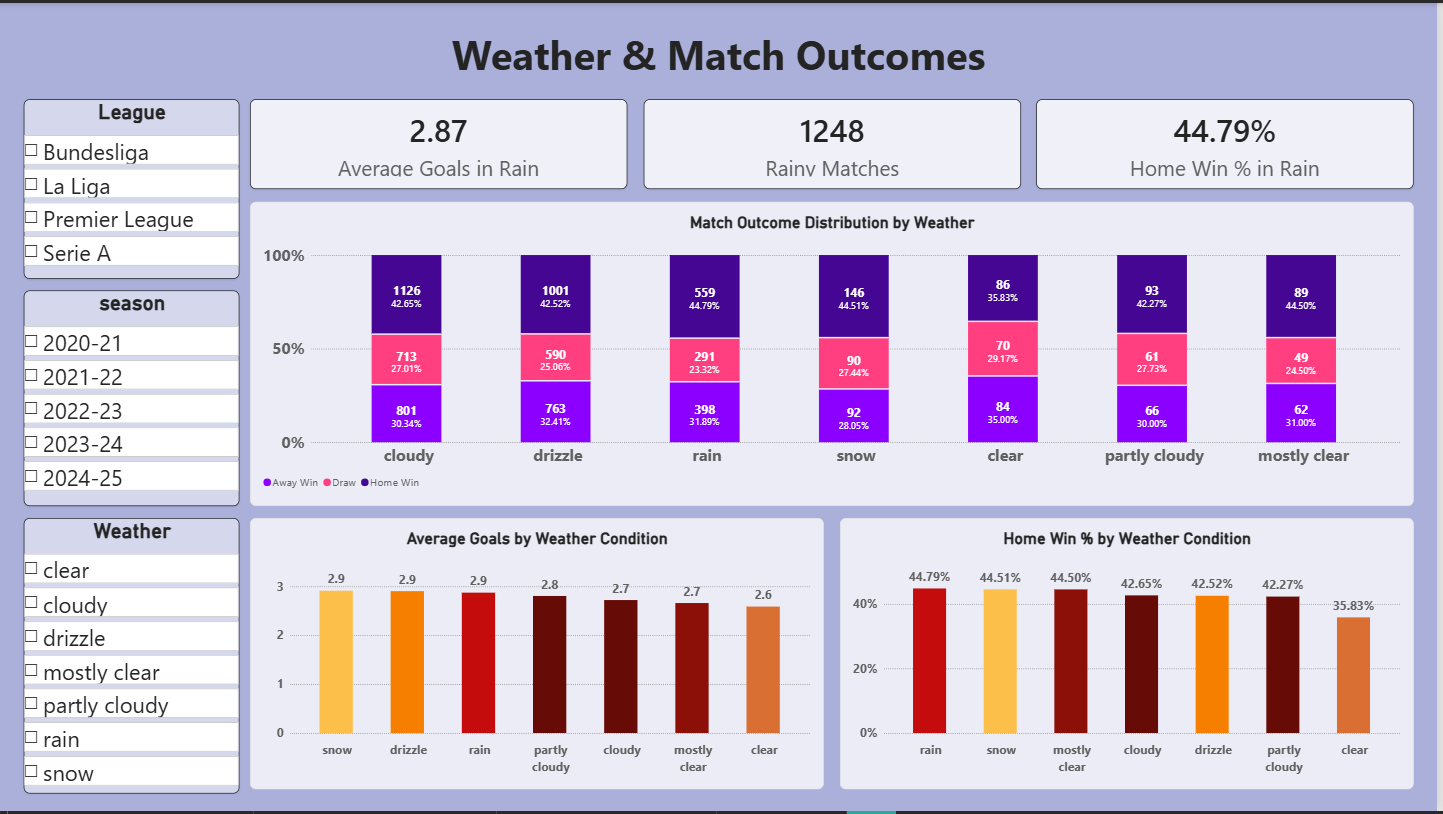

Layout of this report page (visuals, bound fields, positions):
{"tool":"powerbi","page":{"name":"Weather & Match Outcomes","canvas":[1920,1080],"ordinal":1},"visuals":[{"type":"card","fields":{"Values":["Table.Rainy Matches"]},"box":[860,128,504,120],"z":0},{"type":"card","fields":{"Values":["Table.Average Goals in Rain"]},"box":[334,128,504,120],"z":1000},{"type":"card","fields":{"Values":["Table.Home Win % in Rain"]},"box":[1384,128,504,120],"z":2000},{"type":"listSlicer","title":"season","fields":{"Values":["football_weather.season"]},"box":[32,384,288,288],"z":7000},{"type":"listSlicer","title":"Weather","fields":{"Values":["football_weather.weather_label"]},"box":[32,688,288,368],"z":8000},{"type":"listSlicer","title":"League","fields":{"Values":["football_weather.League Name"]},"box":[32,128,288,240],"z":9000},{"type":"textbox","box":[32,32,1856,80],"z":10000},{"type":"hundredPercentStackedColumnChart","title":"Match Outcome Distribution by Weather","fields":{"Category":["football_weather.weather_label"],"Series":["football_weather.Match Result"],"Y":["Table.Total Matches"]},"box":[334,266,1554,406],"z":10001},{"type":"clusteredColumnChart","title":"Average Goals by Weather Condition","fields":{"Category":["football_weather.weather_label"],"Y":["Table.Average Goals per Match"]},"box":[334,688,766,362],"z":10002},{"type":"clusteredColumnChart","title":"Home Win % by Weather Condition","fields":{"Category":["football_weather.weather_label"],"Y":["Table.Home Win %"]},"box":[1122,688,766,362],"z":10003}]}

Visuals, with their boxes in screenshot pixels (x1, y1, x2, y2), scaled from the page's 1920x1080 canvas onto the 1443x814 screenshot:
card - Table.Rainy Matches: box(646, 96, 1025, 187)
card - Table.Average Goals in Rain: box(251, 96, 630, 187)
card - Table.Home Win % in Rain: box(1040, 96, 1419, 187)
"season" listSlicer: box(24, 289, 240, 506)
"Weather" listSlicer: box(24, 519, 240, 796)
"League" listSlicer: box(24, 96, 240, 277)
textbox: box(24, 24, 1419, 84)
"Match Outcome Distribution by Weather" hundredPercentStackedColumnChart: box(251, 200, 1419, 506)
"Average Goals by Weather Condition" clusteredColumnChart: box(251, 519, 827, 791)
"Home Win % by Weather Condition" clusteredColumnChart: box(843, 519, 1419, 791)
